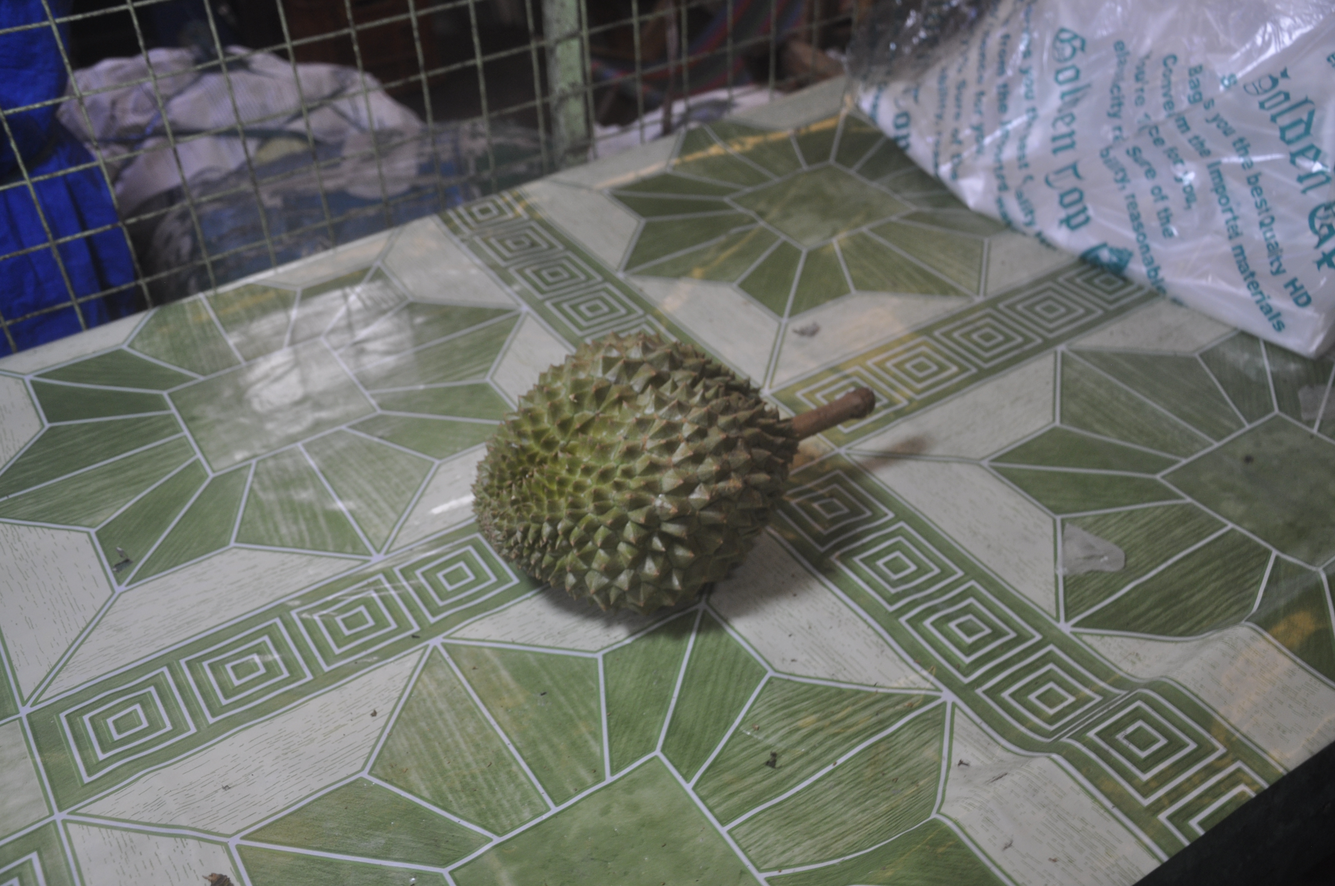mature: (473, 333, 801, 614)
